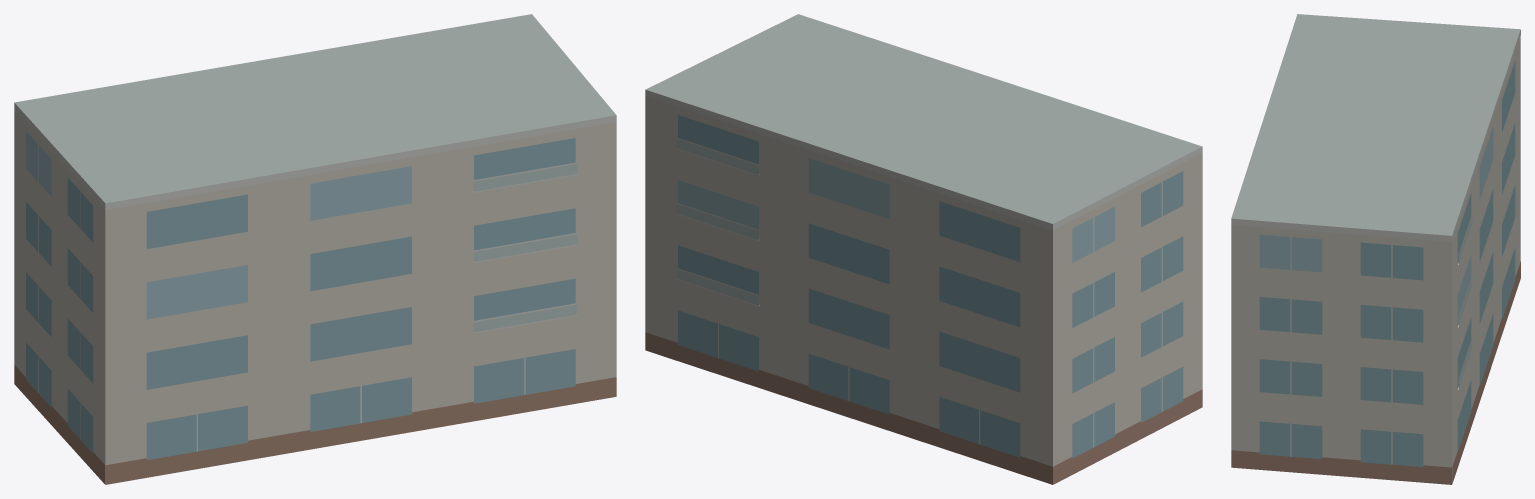
File: survey-upis-32798622.glb
3 views of the same model, side by side, from view 1: azimuth 30°, elevation 25°; view 2: azimuth 150°, elevation 25°; view 3: azimuth 270°, elevation 25° (orthographic). The views are drawn at different scales.
Visible parts, largest first — view 1: survey-upis-32798622.tmp; view 2: survey-upis-32798622.tmp; view 3: survey-upis-32798622.tmp.
Boxes of the visible parts, left/top/right/bottom form: survey-upis-32798622.tmp: left=14, top=14, right=616, bottom=484; survey-upis-32798622.tmp: left=645, top=14, right=1202, bottom=484; survey-upis-32798622.tmp: left=1231, top=14, right=1520, bottom=484.
Bounding box in the file's own units: 19.31 × 10.1 × 10.66.
